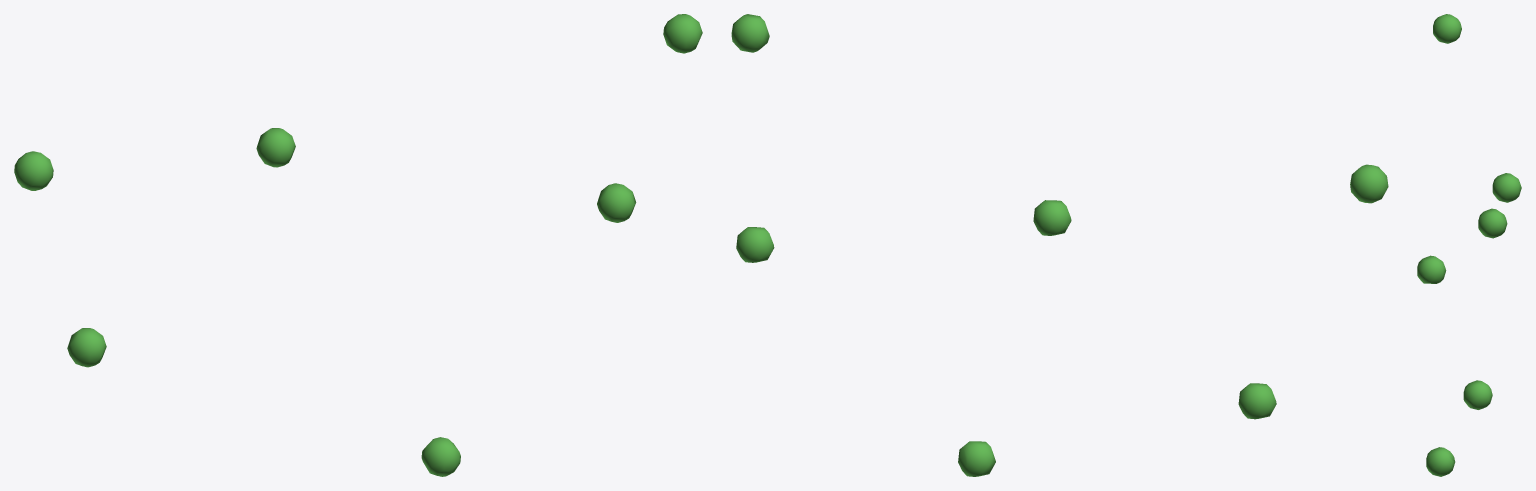
The model's file is linfatico-postvesical-nodes.glb.
3 renders of one model, left to right at view 1: azimuth 30°, elevation 25°; view 2: azimuth 150°, elevation 25°; view 3: azimuth 270°, elevation 25°, orthographic. The views are drawn at different scales.
Visible parts, largest first — view 1: Postvesical nodes; view 2: Postvesical nodes; view 3: Postvesical nodes.
Boxes of the visible parts, x1=… form: Postvesical nodes: x1=14, y1=14, x2=702, y2=476; Postvesical nodes: x1=731, y1=14, x2=1388, y2=476; Postvesical nodes: x1=1417, y1=14, x2=1521, y2=476.
Size of the model in its own units: 0.0504 by 0.0298 by 0.00905.
